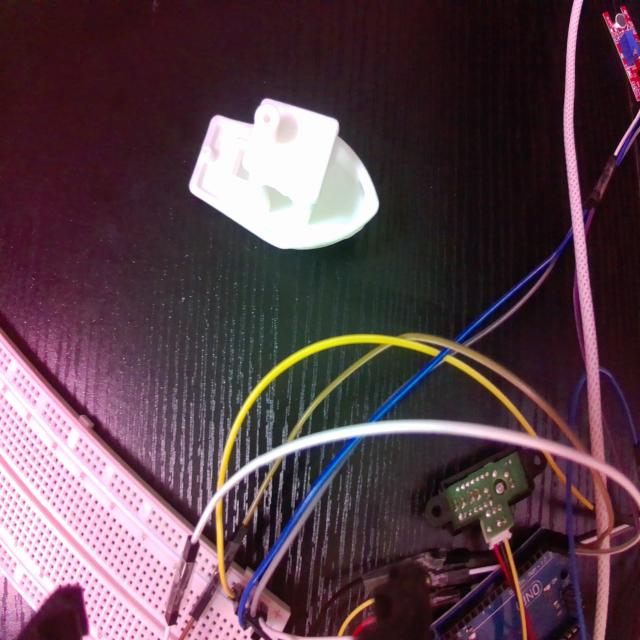ship: (190, 96, 378, 251)
